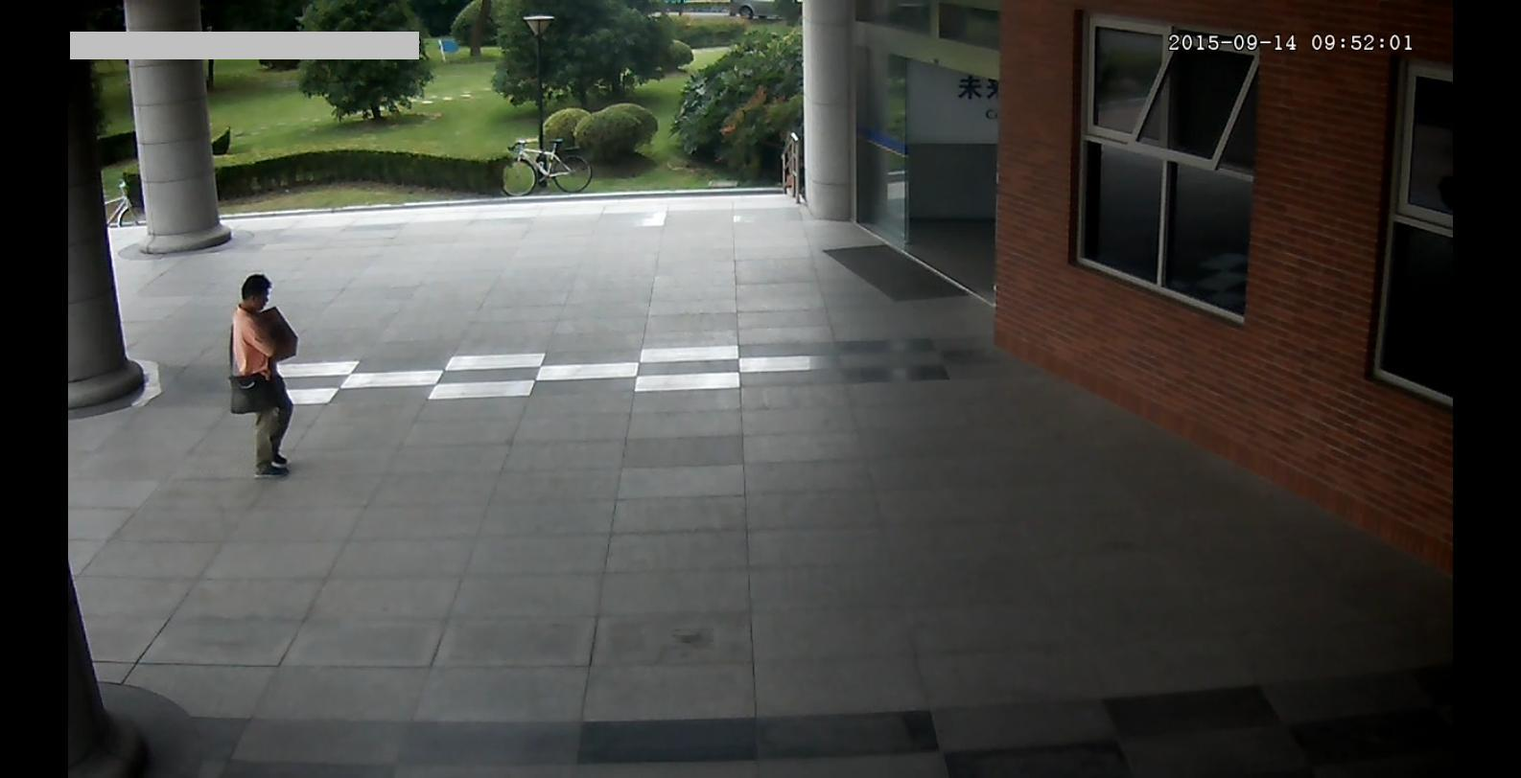person: (226, 267, 311, 483)
